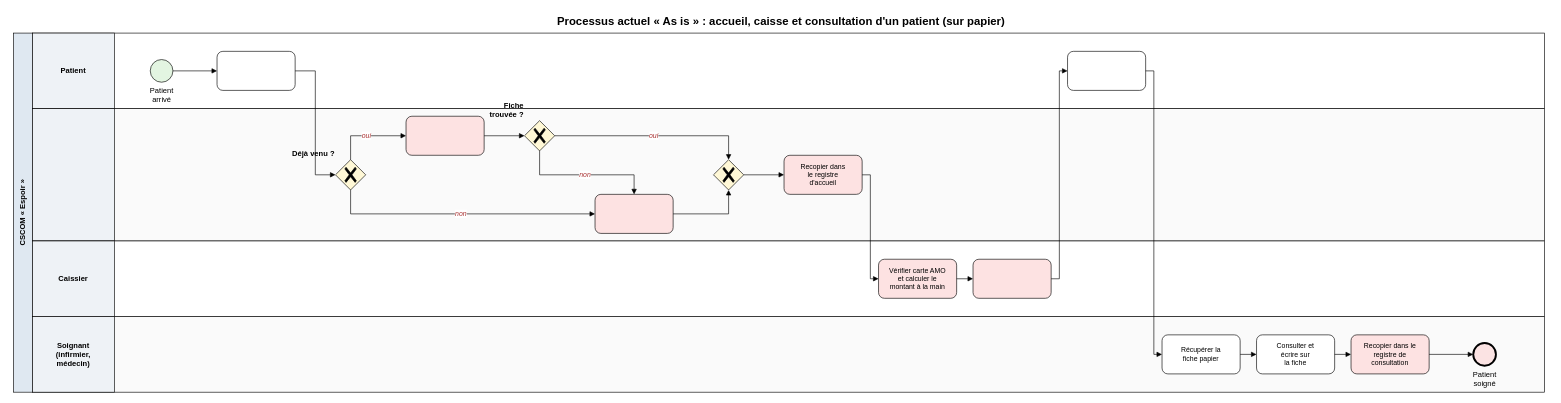
Image size: 1561x403. Some labels were removed from this diagram. Here are the shapes that lost their labels. From the top down, the centre of each, then its label:
At point (255, 70): "Se présenter à l'accueil".
At point (1106, 70): "Attendre son tour".
At point (444, 135): "Chercher la fiche dans l'armoire".
At point (73, 174): "Agent d'accueil".
At point (633, 213): "Créer une fiche papier (risque doublon)".
At point (1011, 278): "Encaisser et écrire le reçu à la main".
